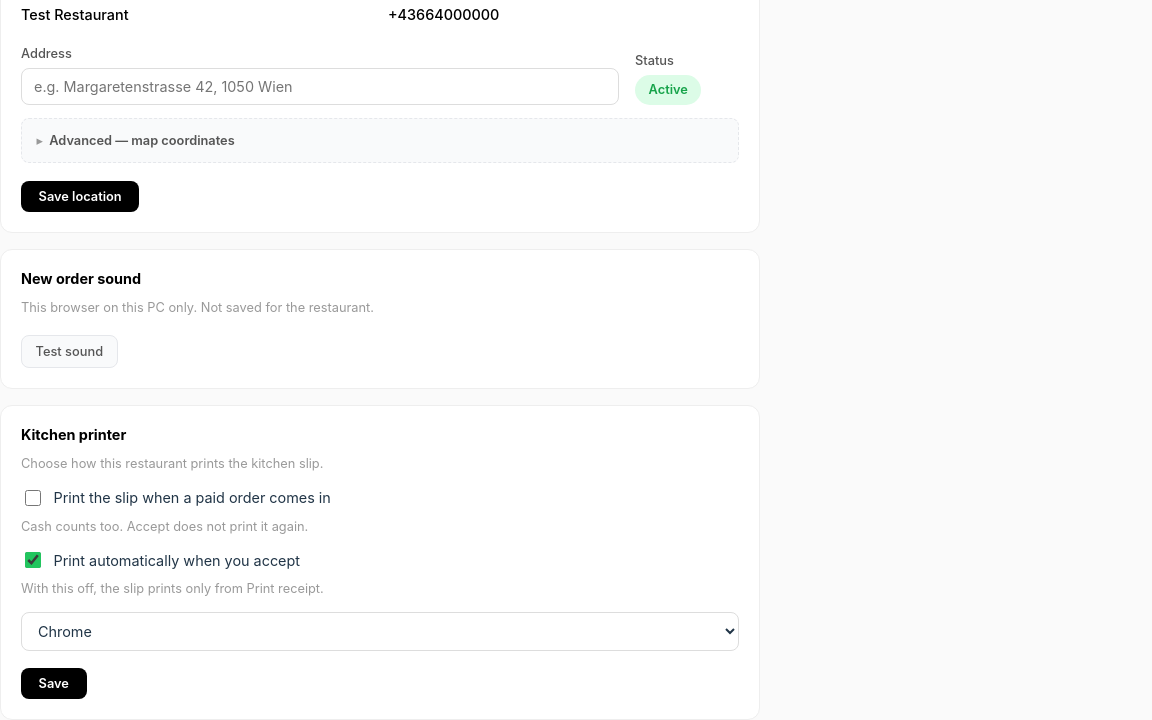
Test: SettingsPage — kitchen printer › rejects a local IP target that is not an IPv4 address and does not save
(page scrolled)
Check: the heading "Kitchen printer" is shown, box [21,426,126,443]
Step 1. Select "Program on this PC" in the dropdown labelled "Kitchen printer" → [380, 631], box [21,612,739,651]
(page scrolled)
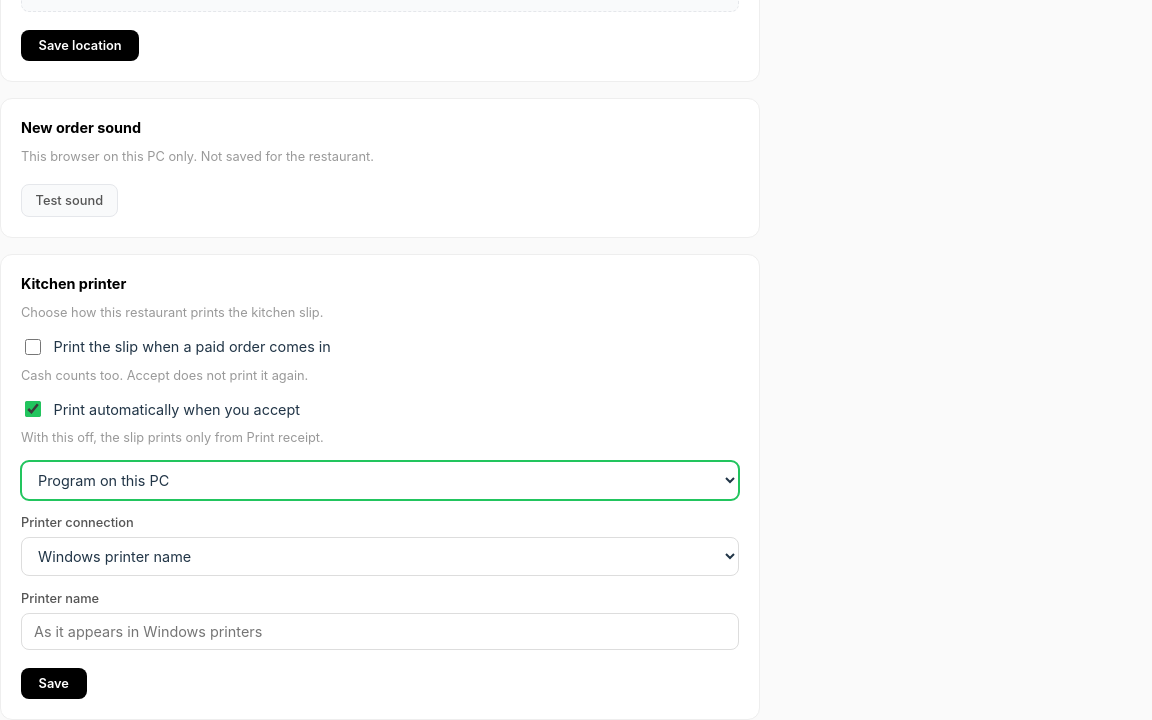
Step 2. Select "Printer IP" in the dropdown labelled "Printer connection" → [380, 557], box [21,537,739,576]
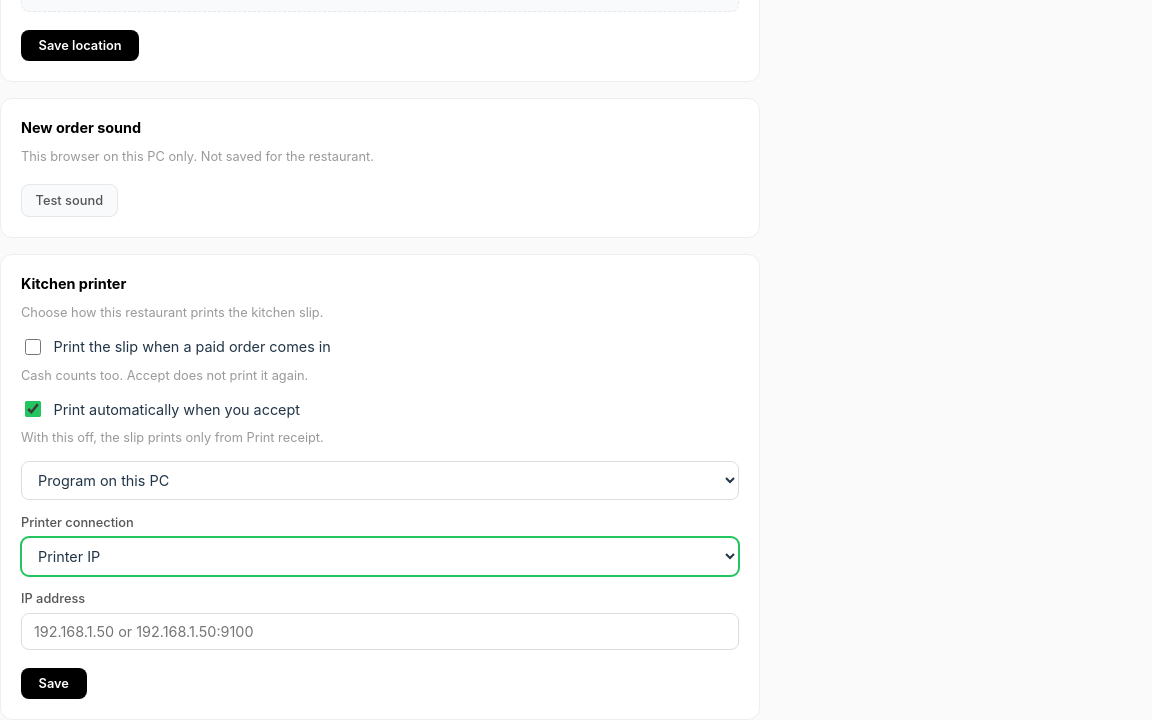
Step 3. Type "not-an-ip" into the field labelled "IP address" → [380, 632], box [21,614,739,650]
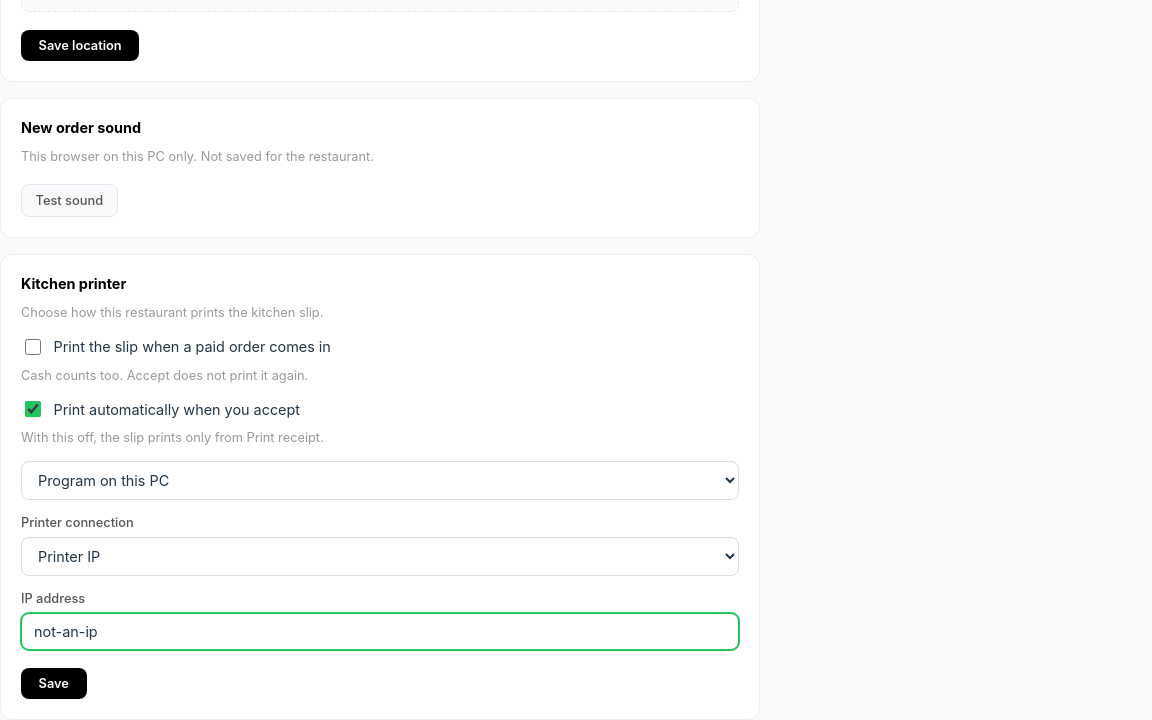
Step 4. Click the button "Save" → [54, 683], box [21,668,86,699]
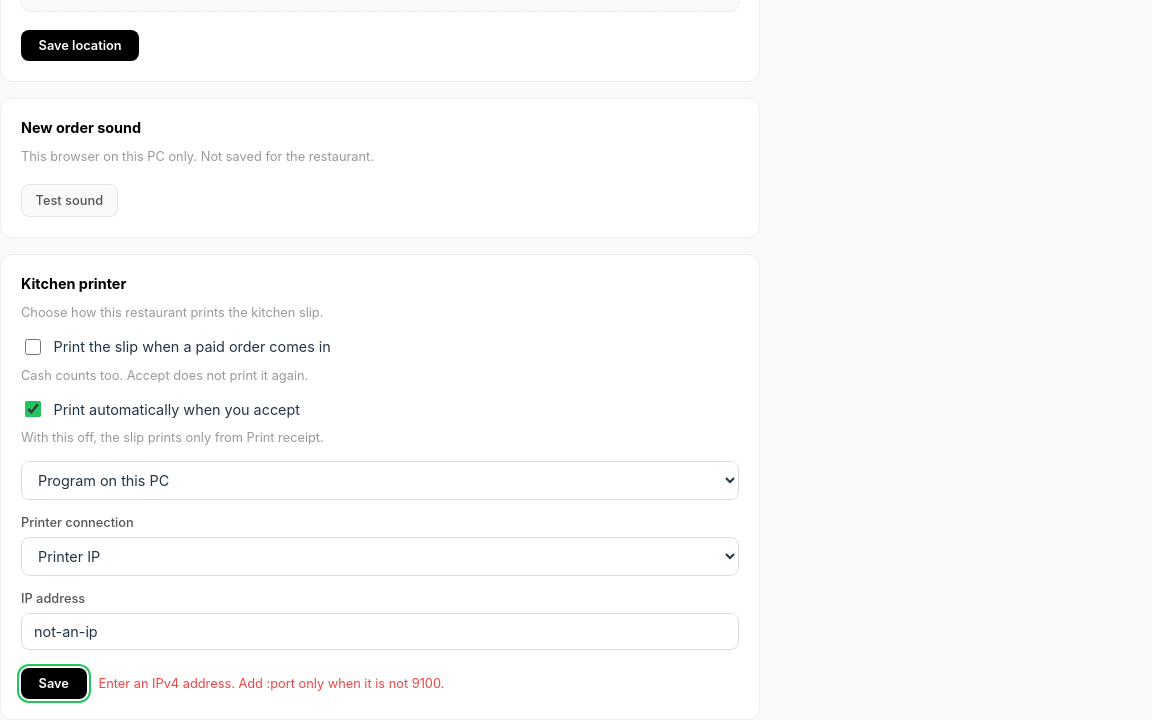
Check: the text "Enter an IPv4 address. Add :port only when it is not 9100." is shown, box [98,674,444,693]
